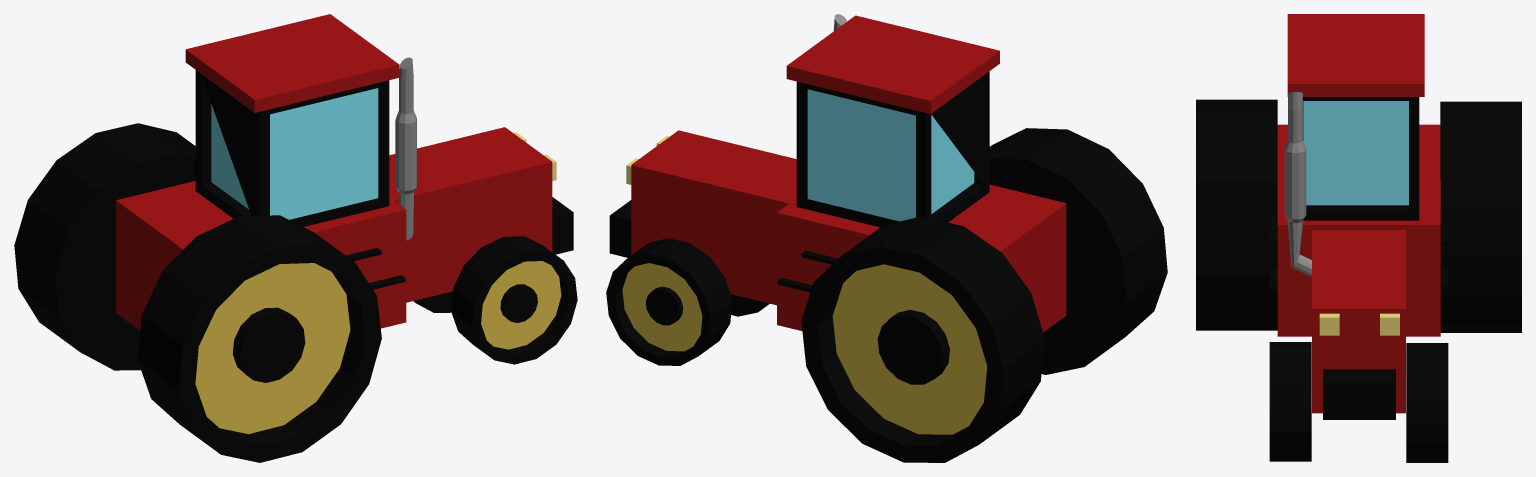
Rendered from Tractor Rojo.fbx.
3 renders of one model, left to right at view 1: azimuth 30°, elevation 25°; view 2: azimuth 150°, elevation 25°; view 3: azimuth 270°, elevation 25°, orthographic.
Parts seen in each view (by area): view 1: Cylinder.010, Cylinder.016, Cylinder.001, Cylinder.002, Cylinder.008, Cylinder.021, Cylinder.005, Cylinder.003, Cylinder.011, Cylinder.007, Cylinder.018, Cylinder.009; view 2: Cylinder.016, Cylinder.010, Cylinder.001, Cylinder.002, Cylinder.008, Cylinder.021, Cylinder.019, Cylinder.003, Cylinder.017, Cylinder.020, Cylinder.009; view 3: Cylinder.010, Cylinder.016, Cylinder.001, Cylinder.021, Cylinder.002, Cylinder.008, Cylinder.005, Cylinder.019, Cylinder.009, Cylinder.003, Cylinder.007, Cylinder.004 (+1 smaller).
Part boxes in pixels (x1,y1,x2,y2): Cylinder.010: (137,215,381,462); Cylinder.016: (14,123,195,370); Cylinder.001: (389,127,552,302); Cylinder.002: (116,181,406,330); Cylinder.008: (211,88,378,219); Cylinder.021: (185,14,399,112); Cylinder.005: (451,236,577,364); Cylinder.003: (195,70,389,226); Cylinder.011: (232,307,305,382); Cylinder.007: (395,57,416,240); Cylinder.018: (500,284,537,322); Cylinder.009: (552,197,573,254); Cylinder.016: (801,216,1044,462); Cylinder.010: (989,128,1167,374); Cylinder.001: (631,130,796,305); Cylinder.002: (777,184,1066,332); Cylinder.008: (807,89,974,221); Cylinder.021: (786,15,999,113); Cylinder.019: (606,238,732,365); Cylinder.003: (796,71,989,227); Cylinder.017: (877,309,949,384); Cylinder.020: (645,286,683,325); Cylinder.009: (609,200,631,257); Cylinder.010: (1196,99,1277,330); Cylinder.016: (1440,101,1521,332); Cylinder.001: (1312,230,1405,413); Cylinder.021: (1287,14,1424,96); Cylinder.002: (1277,124,1440,336); Cylinder.008: (1303,101,1408,205); Cylinder.005: (1269,342,1311,461); Cylinder.019: (1406,343,1448,462); Cylinder.009: (1323,369,1395,419); Cylinder.003: (1303,97,1419,220); Cylinder.007: (1284,92,1311,276); Cylinder.004: (1319,313,1339,335).
Size of the model in its own units: 386 by 258 by 240.
